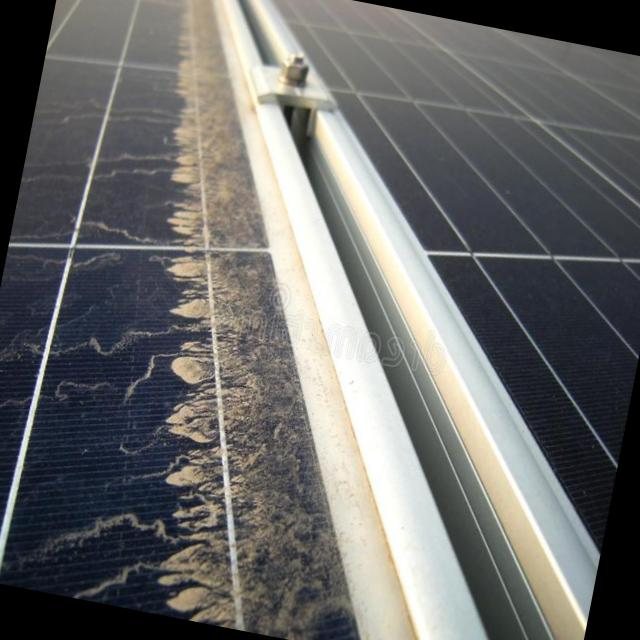faulty: (0, 0, 362, 640), (282, 0, 640, 524)
